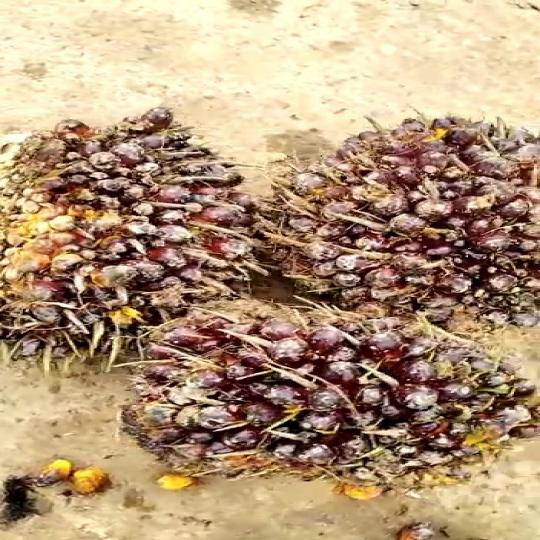kurang masak: (127, 298, 532, 507), (240, 100, 540, 346), (0, 98, 258, 356)
